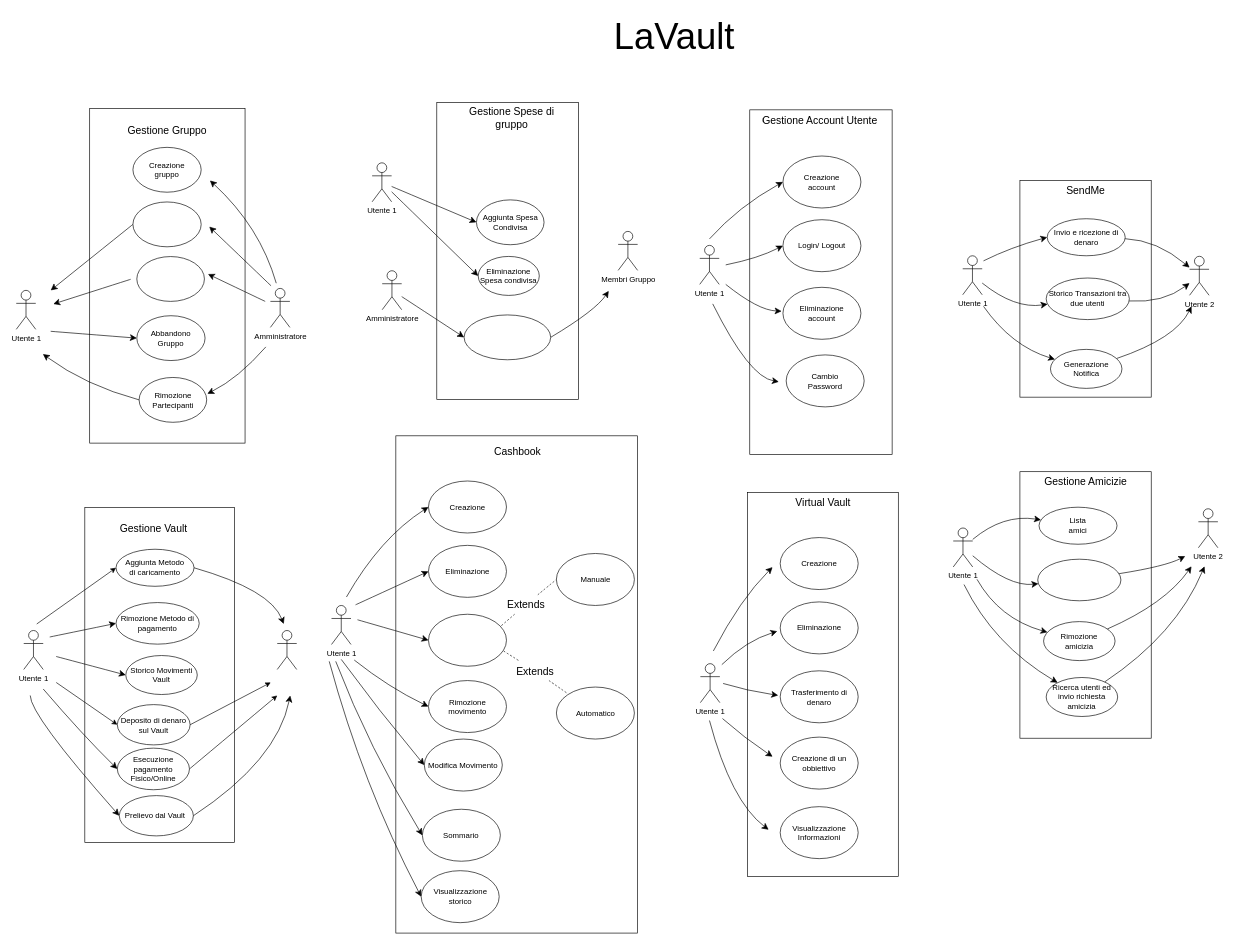
This 1234x944 diagram has some shape labels left out. The box of each missing label's shape, as (x1, y1, x2, y2) in pixels:
Aggiunta movimento: (428, 614, 506, 666)
Approvazione richiesta d'amicizia: (1037, 559, 1121, 601)
Banca: (277, 630, 297, 670)
Eliminazione Gruppo: (132, 201, 201, 247)
Finalizzazione spese di gruppo: (463, 314, 551, 360)
Invito a partecipare ad un Gruppo: (136, 256, 204, 301)
